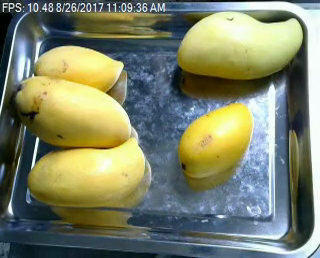Mango: (174, 12, 304, 80), (10, 74, 134, 145), (27, 141, 152, 210), (179, 100, 255, 181), (35, 43, 126, 94)
